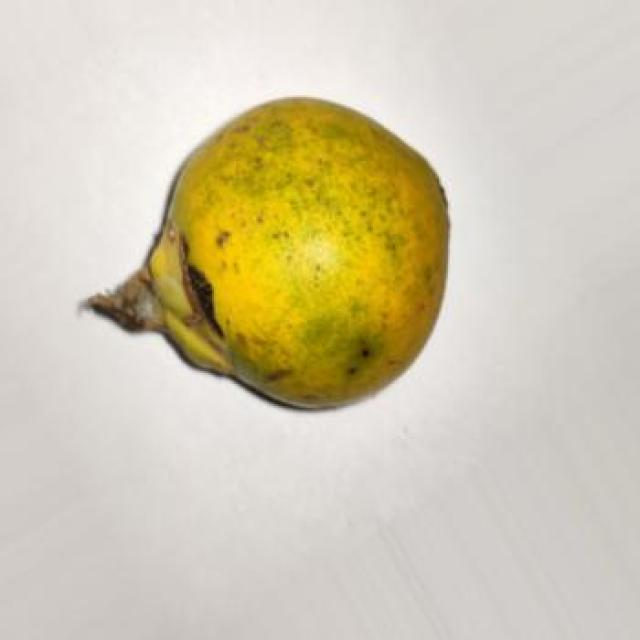damaged: (90, 97, 450, 411)
